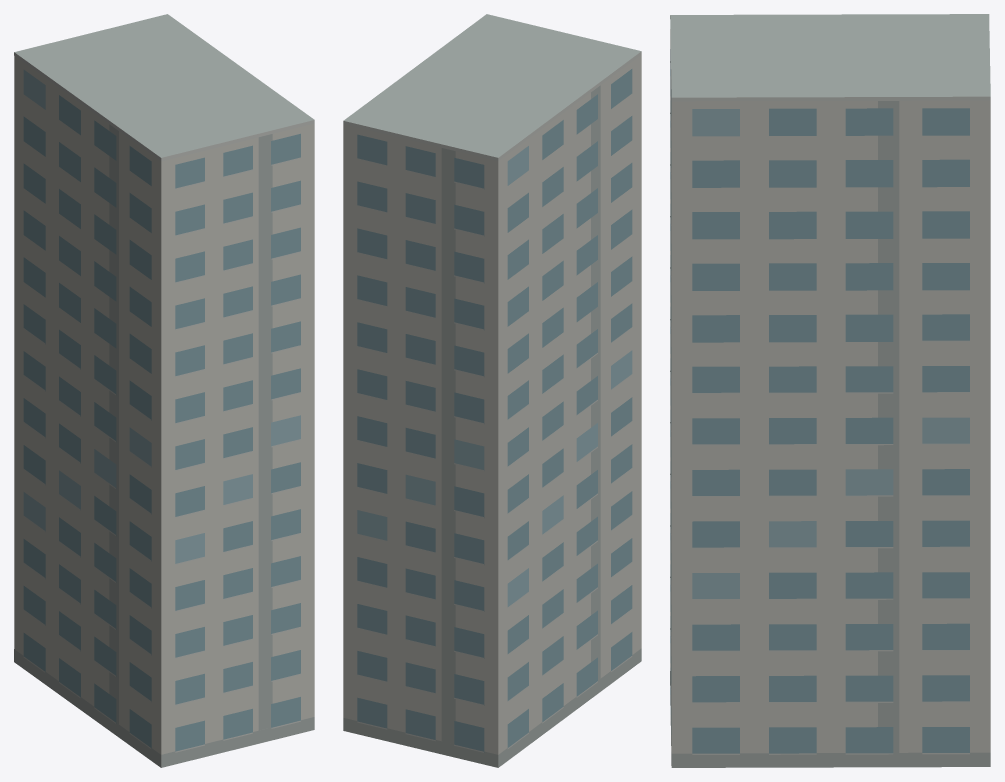
The model's file is residential-7d66f48c-ae90-47ba-be8e-1bb5488768cb.glb.
3 views of the same model, side by side, from view 1: azimuth 30°, elevation 25°; view 2: azimuth 150°, elevation 25°; view 3: azimuth 270°, elevation 25° (orthographic). The views are drawn at different scales.
Visible parts, largest first — view 1: residential-7d66f48c-ae90-47ba-be8e-1bb5488768cb.tmp; view 2: residential-7d66f48c-ae90-47ba-be8e-1bb5488768cb.tmp; view 3: residential-7d66f48c-ae90-47ba-be8e-1bb5488768cb.tmp.
Boxes of the visible parts, bbox=[...] form: residential-7d66f48c-ae90-47ba-be8e-1bb5488768cb.tmp: bbox=[14, 14, 314, 767]; residential-7d66f48c-ae90-47ba-be8e-1bb5488768cb.tmp: bbox=[343, 14, 641, 767]; residential-7d66f48c-ae90-47ba-be8e-1bb5488768cb.tmp: bbox=[670, 14, 990, 767].
Size of the model in its own units: 11.25 by 42 by 18.21.
